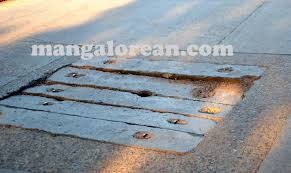Manhole-Closed: (2, 45, 265, 161)
